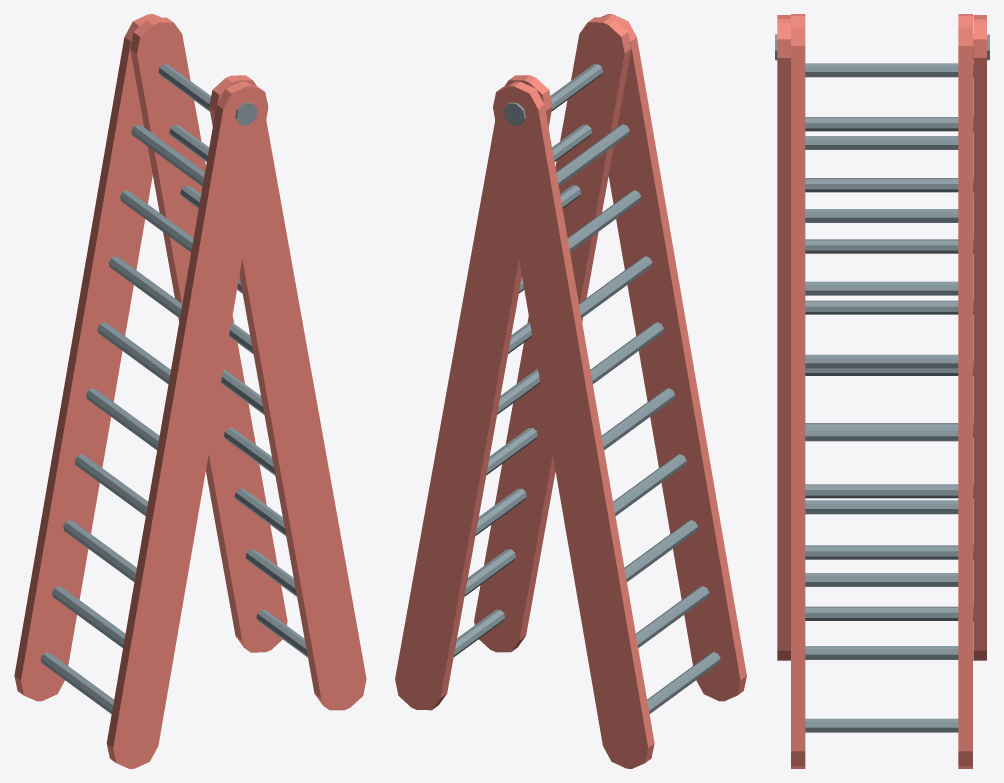
The model's file is ladder.gltf.
3 views of the same model, side by side, from view 1: azimuth 30°, elevation 25°; view 2: azimuth 150°, elevation 25°; view 3: azimuth 270°, elevation 25° (orthographic). The views are drawn at different scales.
Visible parts, largest first — view 1: node-0; view 2: node-0; view 3: node-0.
Part boxes in pixels (bbox=[...]): node-0: bbox=[14, 14, 366, 768]; node-0: bbox=[395, 14, 746, 768]; node-0: bbox=[775, 14, 989, 768].
Bounding box in the file's own units: 4.18 × 10.09 × 2.82.
